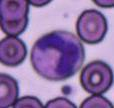N: (31, 31, 84, 80)
